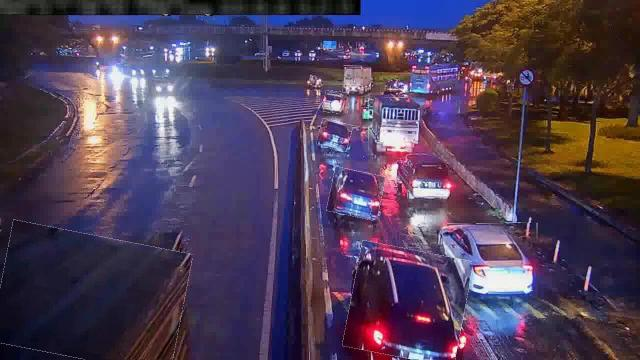Car: (346, 245, 469, 359), (442, 224, 538, 292), (328, 169, 384, 219), (317, 120, 351, 150), (324, 91, 348, 113)
Truck: (0, 228, 188, 360), (368, 98, 416, 154), (343, 66, 373, 94)
